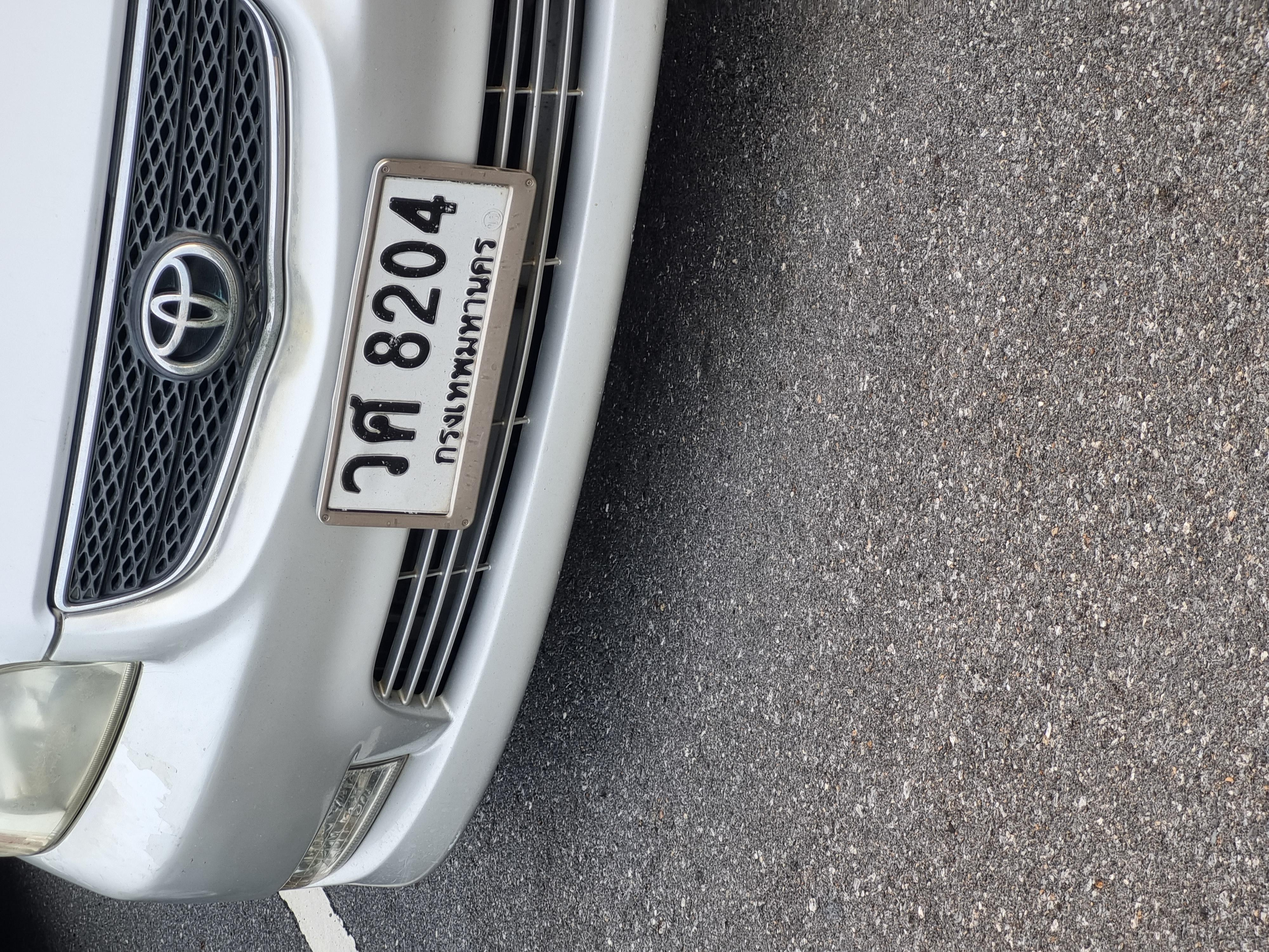license-plate: (568, 231, 1062, 408)
